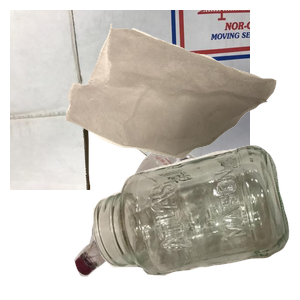cardboard: (10, 10, 250, 190)
glass: (91, 143, 300, 300)
plastic: (72, 142, 273, 300)
trash: (63, 21, 300, 172)
